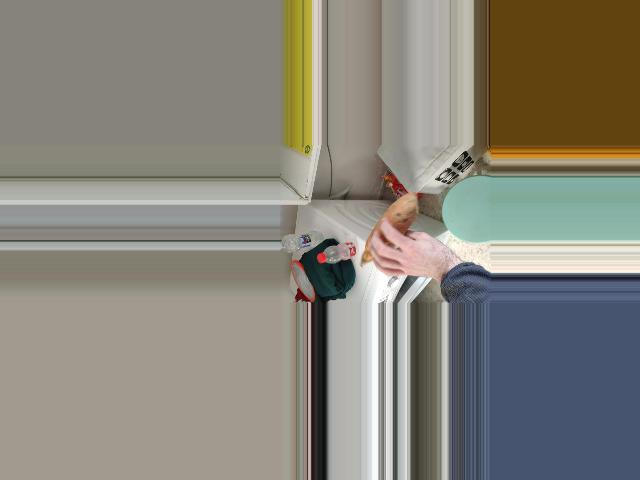sweet_potato: (362, 198, 416, 272)
